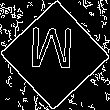M_S: (31, 29, 79, 81)
